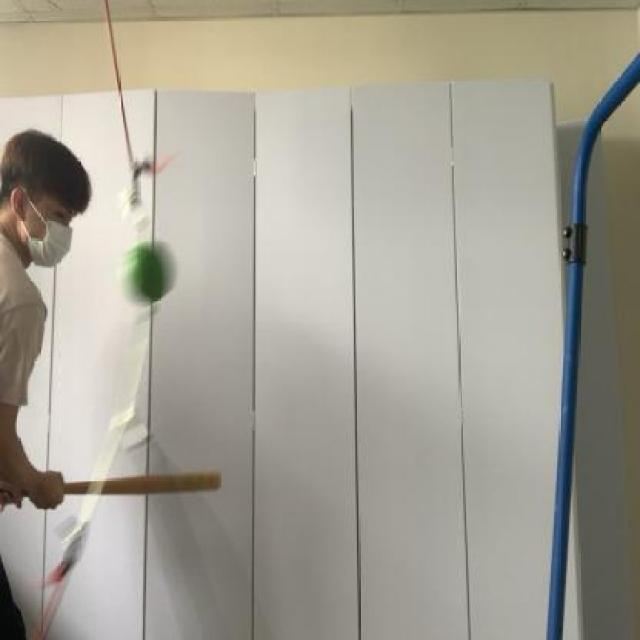baseball: (108, 224, 187, 322)
